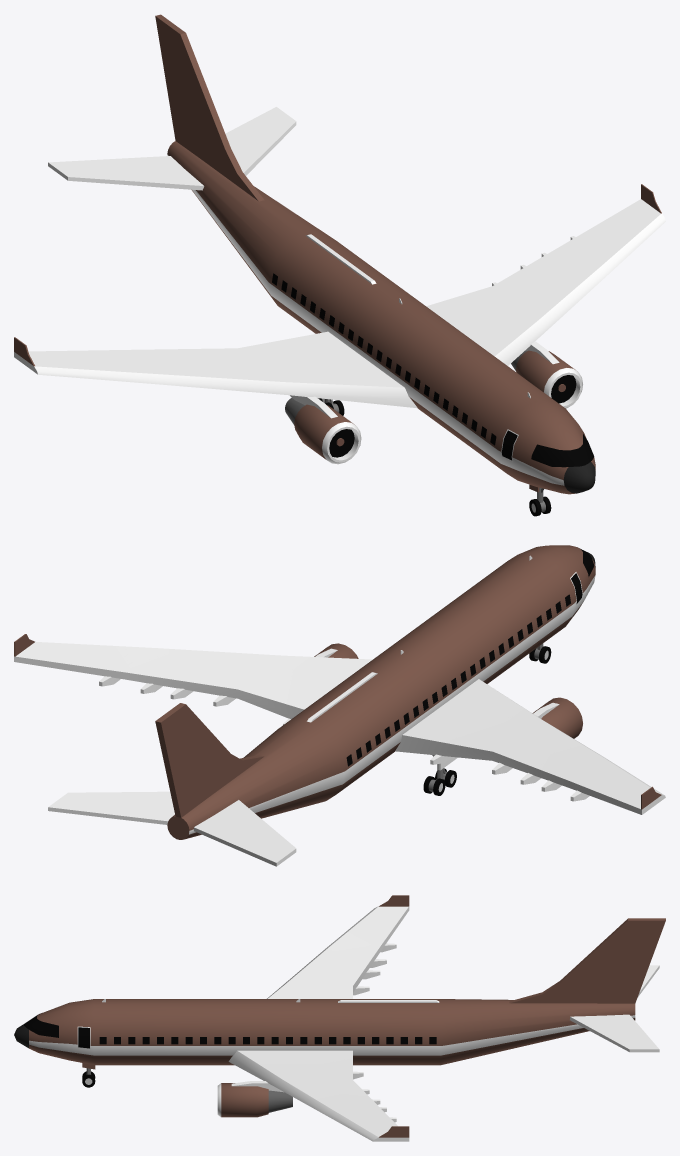
File: Airplane(brown).fbx
3 renders of one model, top to bottom at view 1: azimuth 30°, elevation 25°; view 2: azimuth 150°, elevation 25°; view 3: azimuth 270°, elevation 25°, orthographic. The views are drawn at different scales.
Parts seen in each view (by area): view 1: Airplane; view 2: Airplane; view 3: Airplane.
Part boxes in pixels (left/top/right/bottom): Airplane: left=14, top=14, right=665, bottom=516; Airplane: left=14, top=545, right=665, bottom=866; Airplane: left=14, top=895, right=665, bottom=1141.
Size of the model in its own units: 4670 by 1558 by 5560.
Materials: 1 (1 with a texture image).
